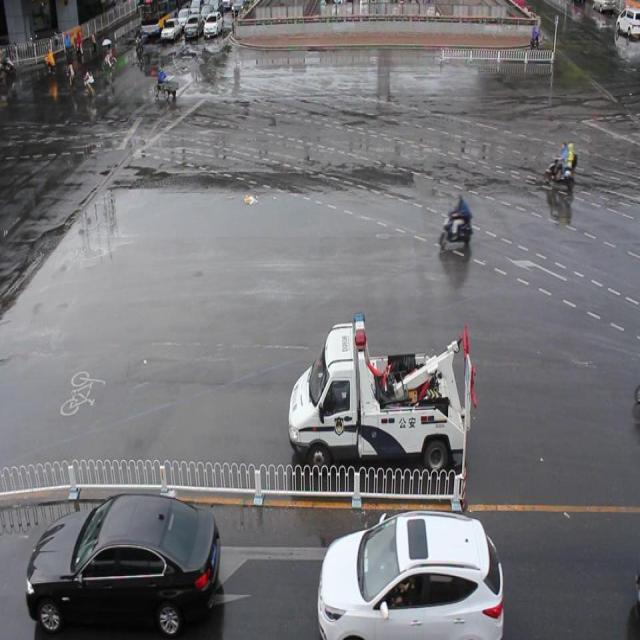bus: (286, 311, 474, 477)
car: (27, 489, 220, 640), (317, 507, 503, 640)
